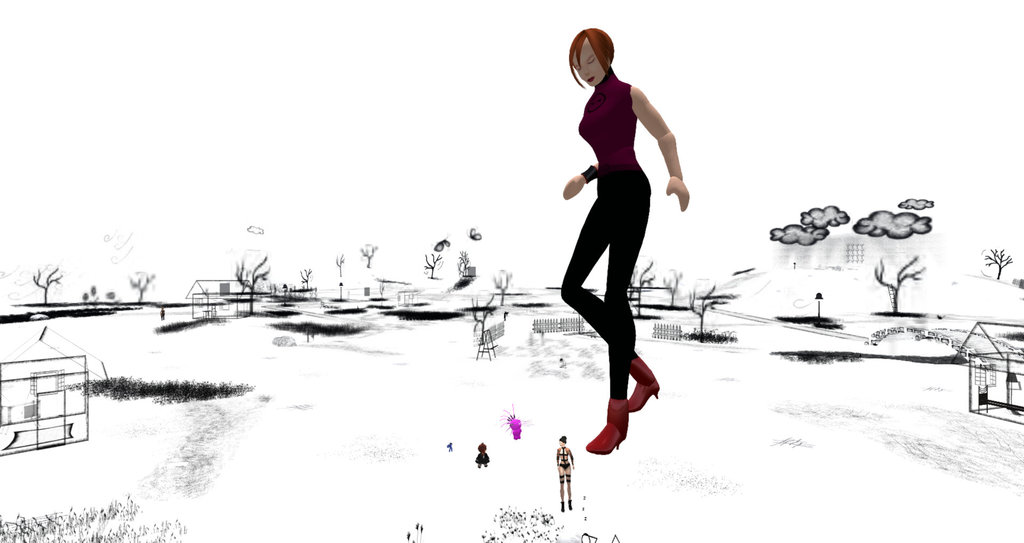Footwear: (593, 378, 654, 460), (623, 353, 657, 421)
